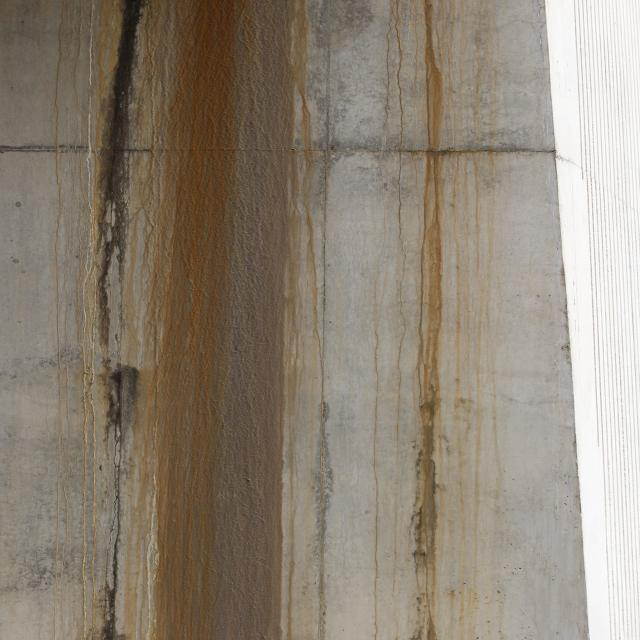corrosion: (35, 0, 334, 640), (361, 3, 512, 640)
